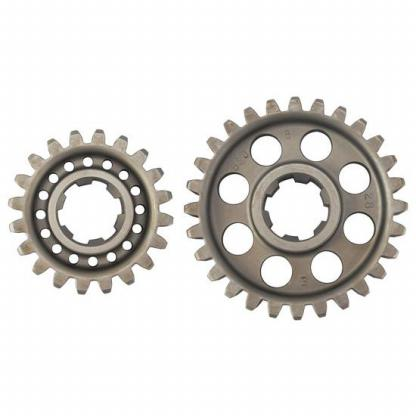FOD: (185, 91, 410, 325), (8, 107, 176, 313)
